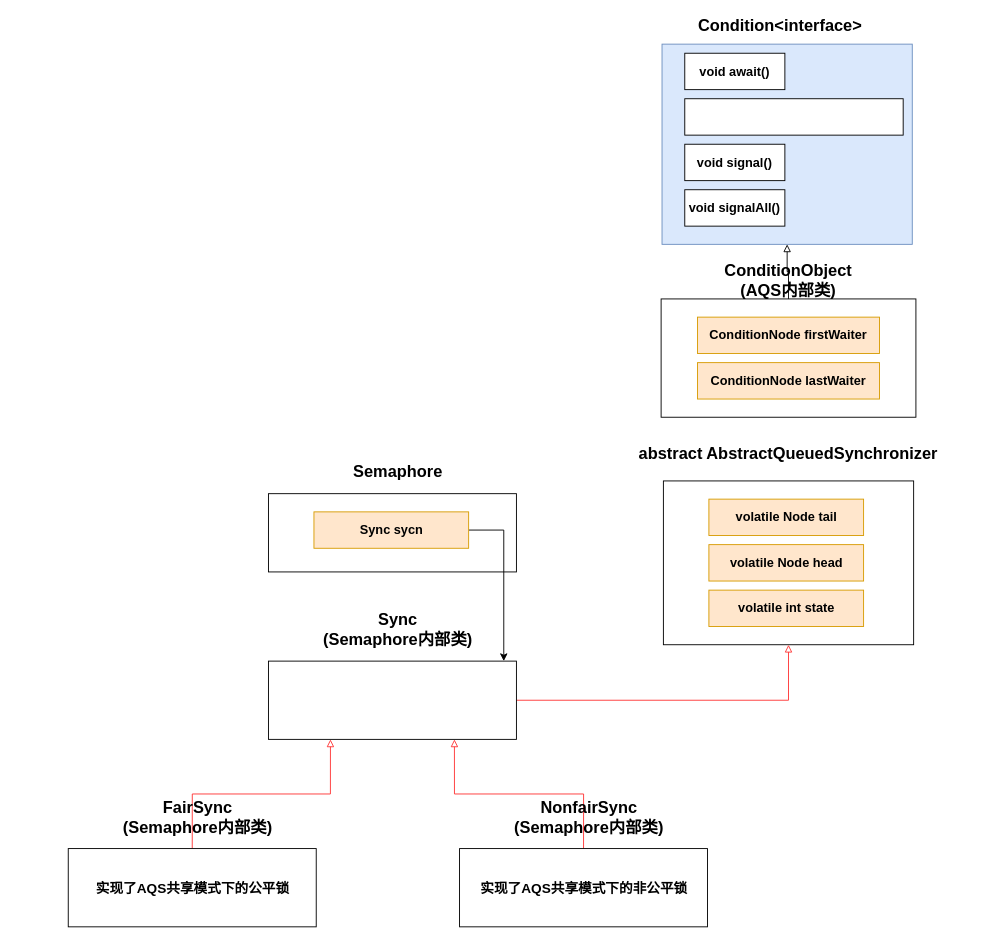
Some shapes in this 986 by 943 pixel diagram are drawn without their labels. The shapes that lost their labels are listed below. From the top down, each one's box as (x1, y1, x2, y2) in pixels, then its label:
(684, 98, 903, 135): void await(long time,TimeUnit unit)
(268, 660, 516, 739): Sync及其子类实现了AQS的共享模式
